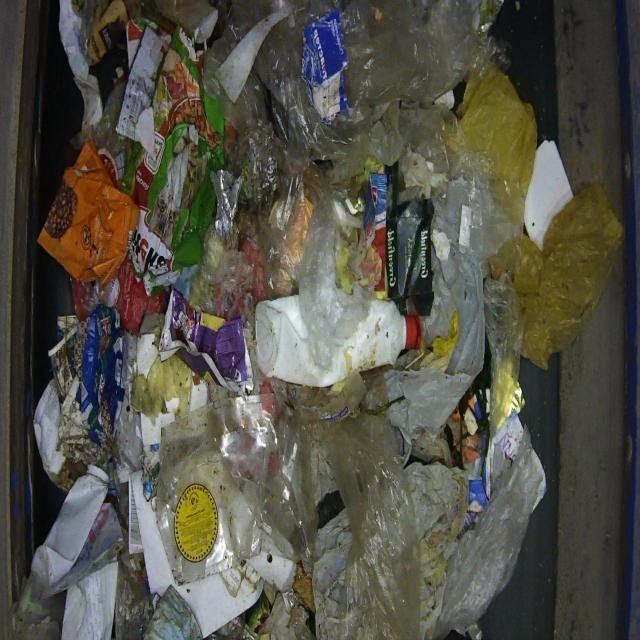E-waste: (17, 0, 619, 637)
